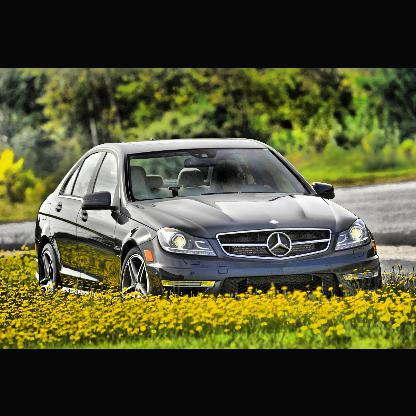Mercedes-Benz C-Class Sedan 2012: (35, 137, 383, 299)
